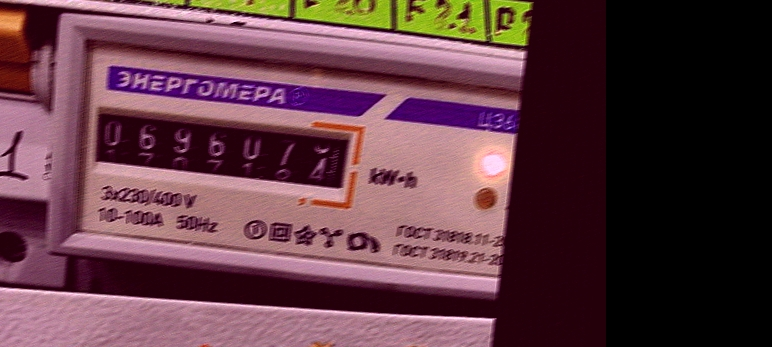0: (100, 118, 123, 150), (240, 131, 262, 163)
4: (305, 155, 327, 185)
6: (133, 121, 159, 153), (205, 129, 227, 159)
7: (275, 136, 295, 168)
9: (170, 126, 192, 157)
screen: (72, 88, 365, 211)
